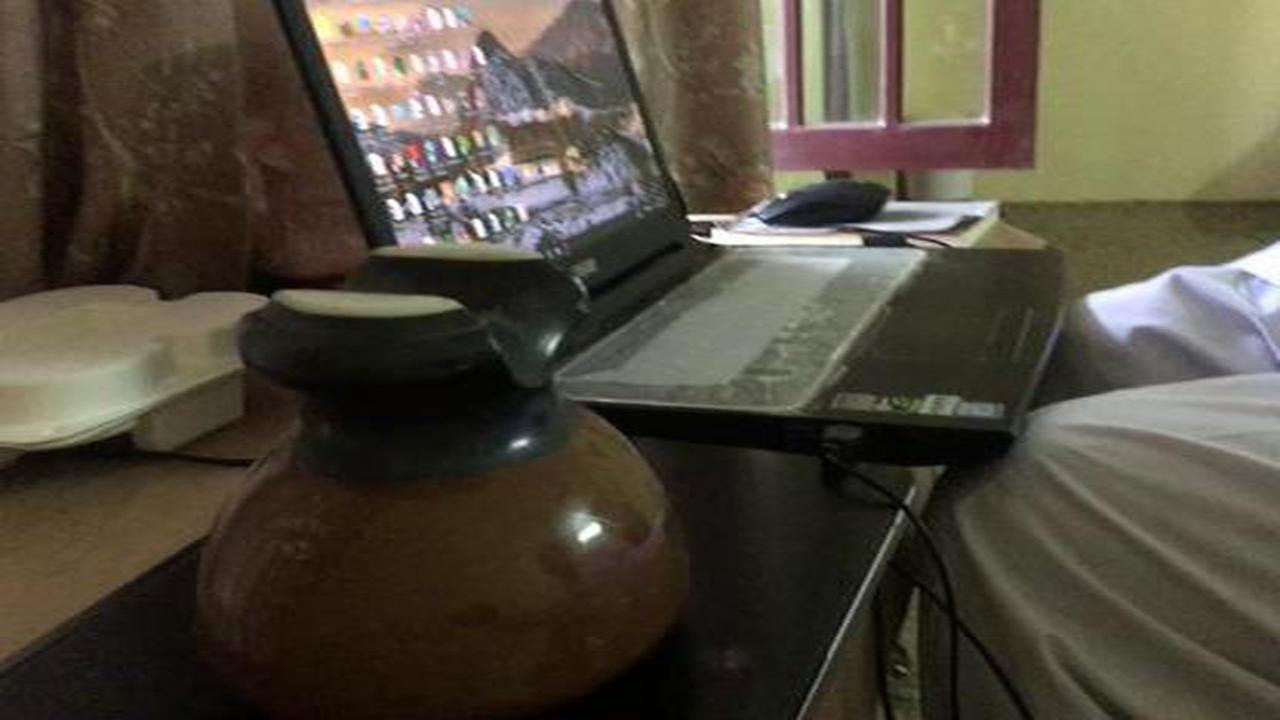insulator_pin: (176, 240, 717, 701)
